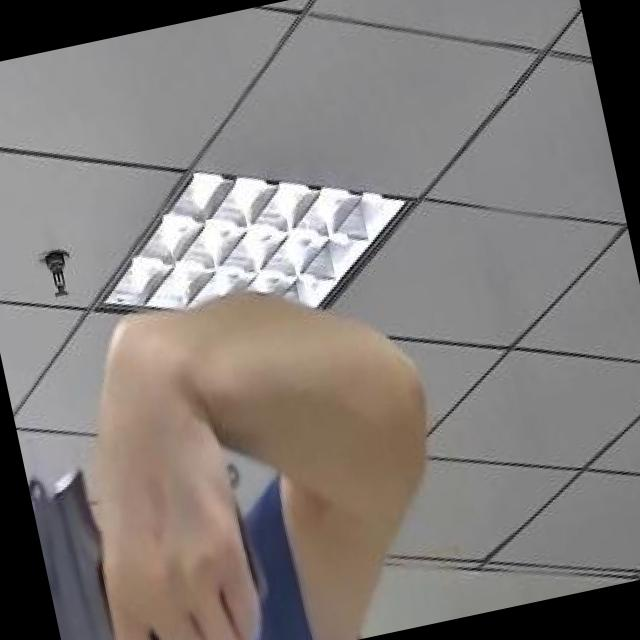Guns: (10, 363, 257, 640)
